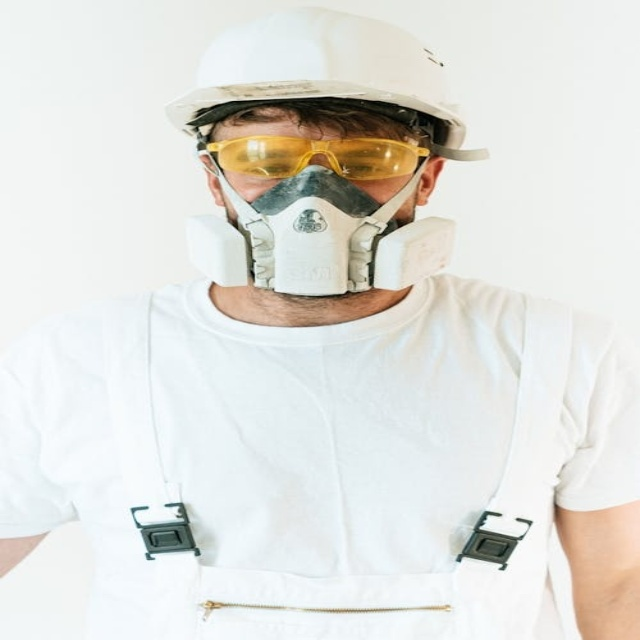Gafas: (202, 136, 435, 180)
Mascara: (193, 158, 454, 297)
